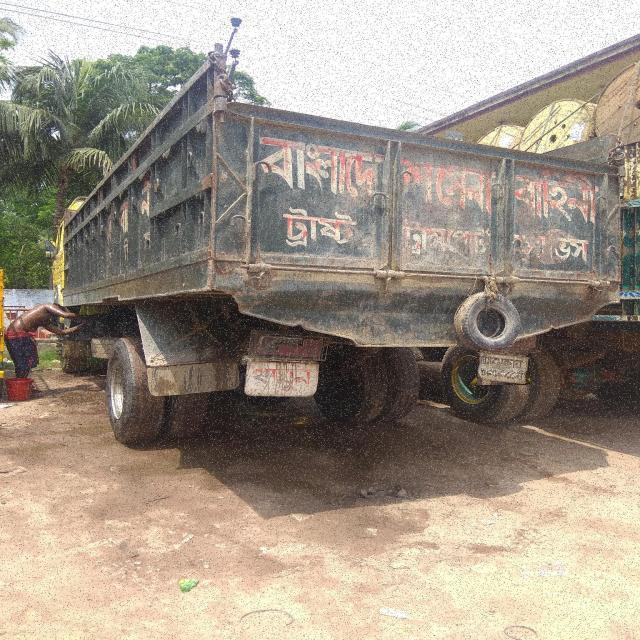numberplate: (477, 350, 530, 385)
